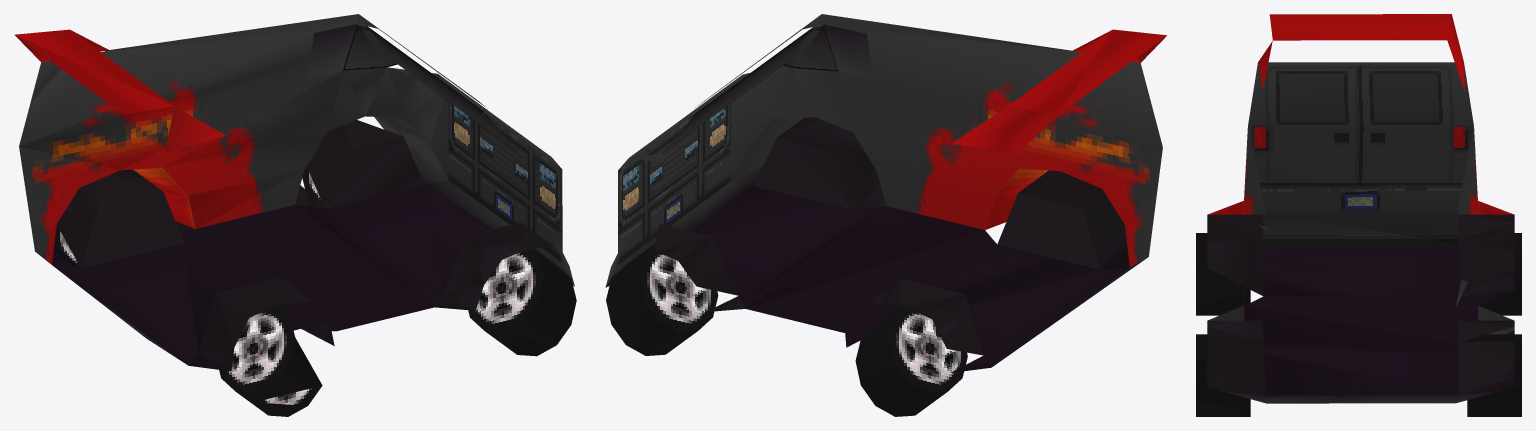
Rendered from ps2_save-icons_rcrevengepro.glb.
3 renders of one model, left to right at view 1: azimuth 30°, elevation 25°; view 2: azimuth 150°, elevation 25°; view 3: azimuth 270°, elevation 25°, orthographic. The views are drawn at different scales.
Parts seen in each view (by area): view 1: slime1.ico; view 2: slime1.ico; view 3: slime1.ico.
Boxes of the visible parts, x1,y1,x2,y2 form: slime1.ico: (14, 14, 576, 416); slime1.ico: (605, 14, 1166, 416); slime1.ico: (1196, 14, 1521, 416).
Size of the model in its own units: 4.54 by 2.97 by 3.51.
1 material, 1 textured.
